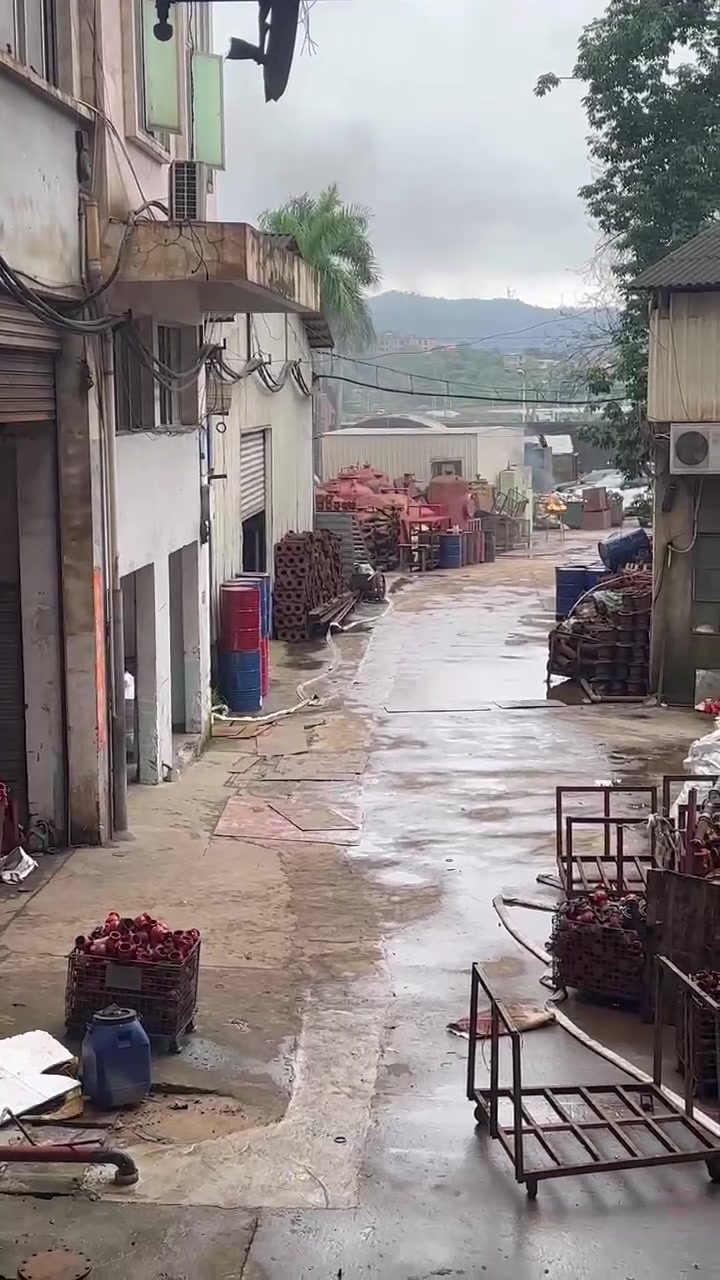fire: (546, 493, 566, 510)
